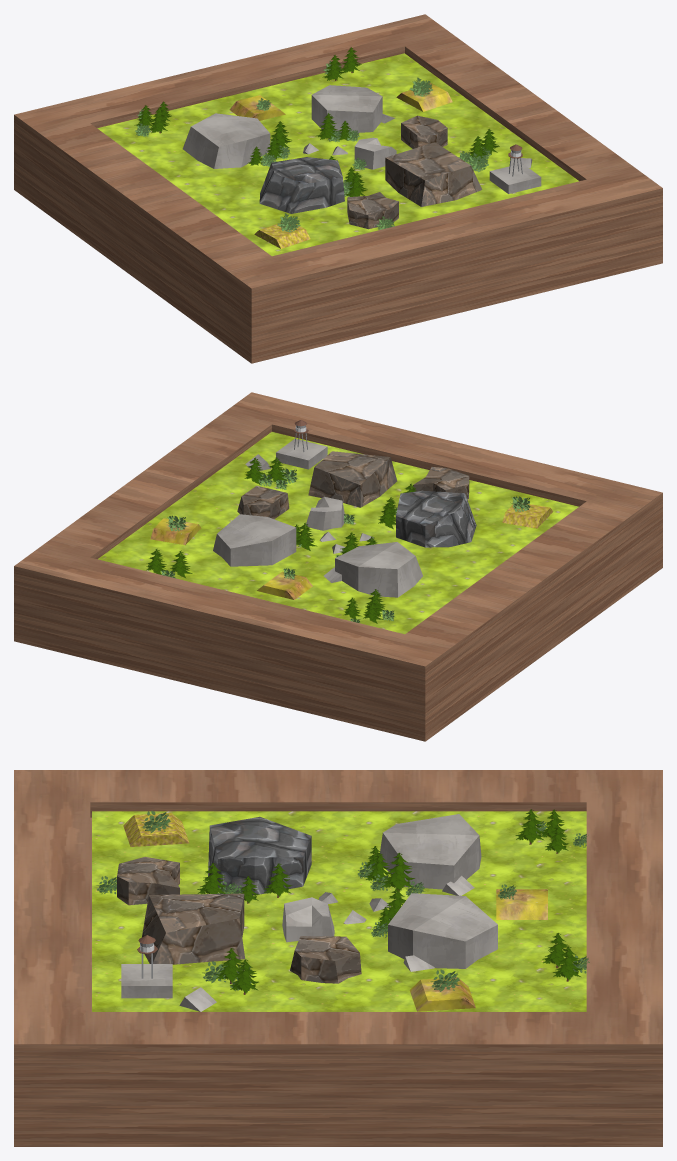
The model's file is TL_map_kaukaz_v2.glb.
The picture shows the model from 3 angles, top to bottom: view 1: azimuth 30°, elevation 25°; view 2: azimuth 150°, elevation 25°; view 3: azimuth 270°, elevation 25°; orthographic projection. The views are drawn at different scales.
Visible parts, largest first — view 1: Cube, Plane, Cube.003, Cube.001, Cube.002, Cube.009, Cube.005, Cube.007, Cube.006, Cube.004, Cube.011, Cube.010 (+1 smaller); view 2: Cube, Plane, Cube.001, Cube.003, Cube.002, Cube.009, Cube.007, Cube.005, Cube.006, Cube.004, Cube.008, Cube.011 (+1 smaller); view 3: Cube, Plane, Cube.003, Cube.009, Cube.001, Cube.002, Cube.007, Cube.005, Cube.004, Cube.006, Cube.010, Cube.011 (+2 smaller).
Boxes of the visible parts, <box> form: Cube: <box>14,14,662,363</box>; Plane: <box>97,53,578,256</box>; Cube.003: <box>385,142,482,206</box>; Cube.001: <box>259,157,344,213</box>; Cube.002: <box>182,113,270,168</box>; Cube.009: <box>311,85,382,132</box>; Cube.005: <box>347,192,398,229</box>; Cube.007: <box>401,115,447,148</box>; Cube.006: <box>489,163,541,193</box>; Cube.004: <box>354,137,396,169</box>; Cube.011: <box>254,222,310,248</box>; Cube.010: <box>396,83,452,111</box>; Cube: <box>14,392,662,741</box>; Plane: <box>98,432,578,634</box>; Cube.001: <box>396,490,476,547</box>; Cube.003: <box>308,451,397,507</box>; Cube.002: <box>335,542,422,597</box>; Cube.009: <box>213,514,296,566</box>; Cube.007: <box>237,486,289,519</box>; Cube.005: <box>413,467,469,499</box>; Cube.006: <box>276,439,327,469</box>; Cube.004: <box>306,496,344,530</box>; Cube.008: <box>257,571,312,599</box>; Cube.011: <box>502,503,553,528</box>; Cube: <box>14,770,662,1146</box>; Plane: <box>92,811,586,1011</box>; Cube.003: <box>142,893,245,964</box>; Cube.009: <box>388,893,497,968</box>; Cube.001: <box>208,816,311,895</box>; Cube.002: <box>380,814,481,889</box>; Cube.007: <box>290,936,361,983</box>; Cube.005: <box>117,857,179,905</box>; Cube.004: <box>282,897,334,942</box>; Cube.006: <box>121,964,172,998</box>; Cube.010: <box>409,977,475,1011</box>; Cube.011: <box>123,812,189,846</box>.
Size of the model in its own units: 2.62 by 0.6526 by 2.62.
Materials: 12 (9 with a texture image).
